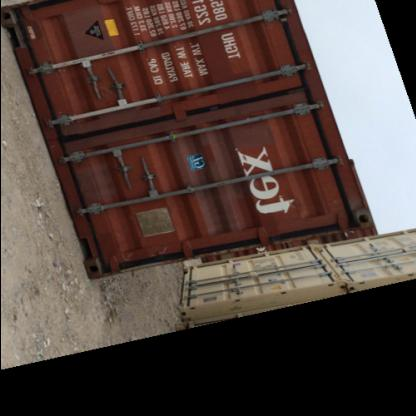Damage: (118, 242, 139, 266), (150, 244, 174, 264)
